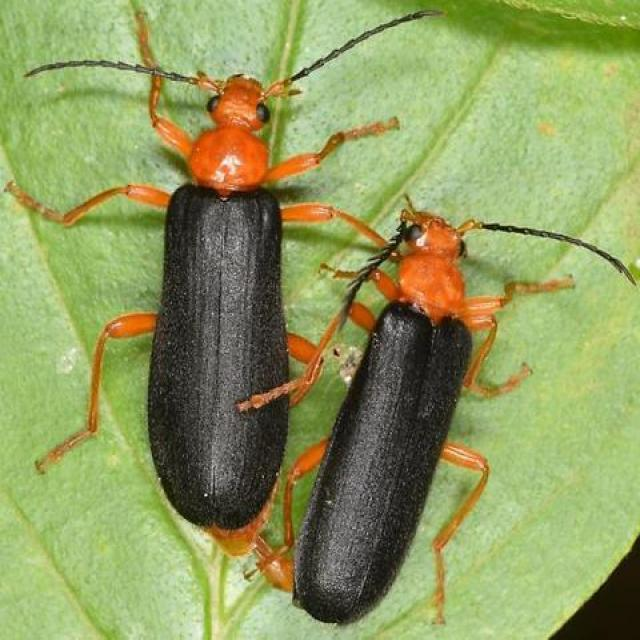BlisterBeetle-Adult-: (31, 19, 335, 534), (284, 177, 614, 626)
